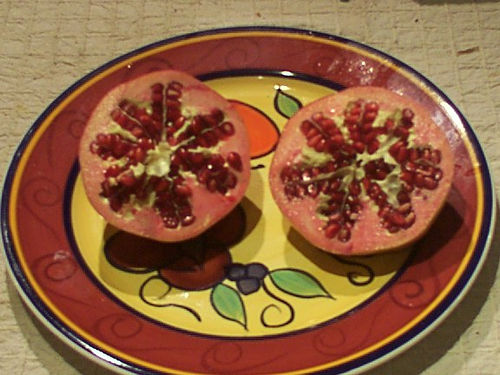pomogranate: (265, 80, 457, 261), (76, 68, 251, 245)
